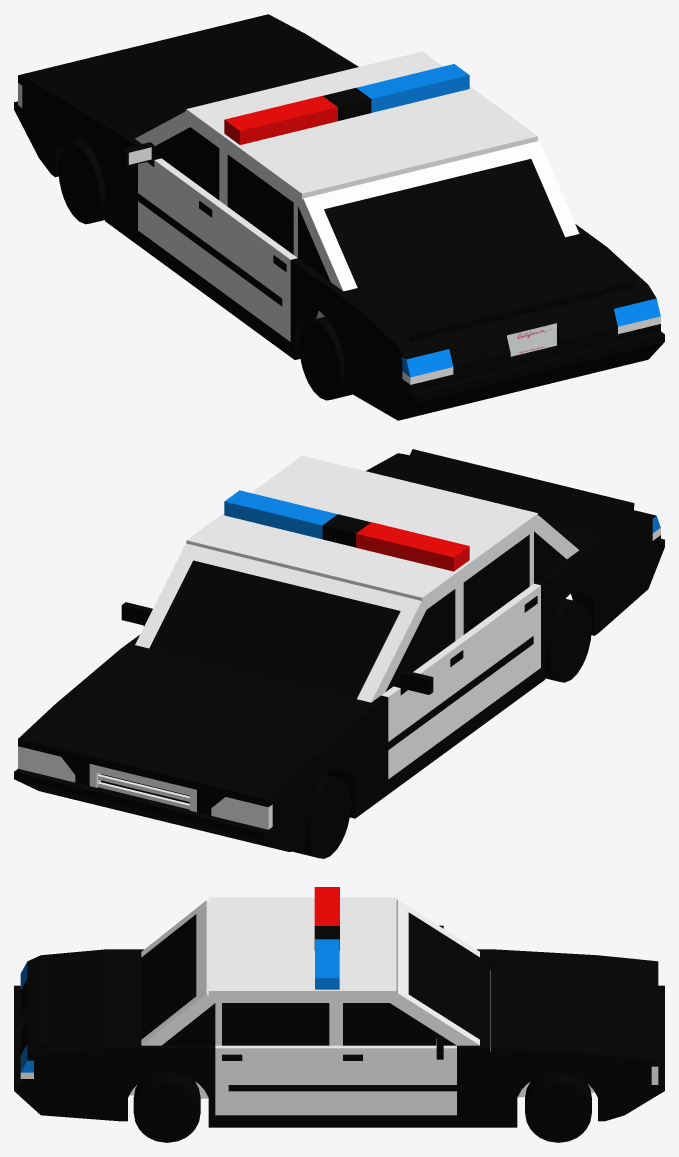
File: police-car.glb
3 views of the same model, one above another, from view 1: azimuth 30°, elevation 25°; view 2: azimuth 150°, elevation 25°; view 3: azimuth 270°, elevation 25° (orthographic). The views are drawn at different scales.
Parts seen in each view (by area): view 1: Object_9, Object_6, Object_7, Object_10, Object_2, Object_8, Object_4, Object_3, Object_11; view 2: Object_9, Object_6, Object_7, Object_2, Object_8, Object_10, Object_11, Object_4; view 3: Object_9, Object_6, Object_7, Object_8, Object_10, Object_2, Object_4.
Boxes of the visible parts, x1=… form: Object_9: x1=14, y1=14, x2=664, y2=420; Object_6: x1=128, y1=51, x2=579, y2=341; Object_7: x1=154, y1=127, x2=564, y2=287; Object_10: x1=356, y1=64, x2=660, y2=377; Object_2: x1=224, y1=96, x2=337, y2=144; Object_8: x1=105, y1=199, x2=300, y2=359; Object_4: x1=121, y1=88, x2=371, y2=166; Object_3: x1=507, y1=323, x2=556, y2=356; Object_11: x1=18, y1=83, x2=660, y2=384; Object_9: x1=14, y1=449, x2=664, y2=858; Object_6: x1=89, y1=455, x2=579, y2=812; Object_7: x1=149, y1=531, x2=566, y2=698; Object_2: x1=356, y1=522, x2=469, y2=571; Object_8: x1=350, y1=657, x2=545, y2=818; Object_10: x1=224, y1=490, x2=660, y2=539; Object_11: x1=18, y1=528, x2=660, y2=829; Object_4: x1=121, y1=514, x2=433, y2=695; Object_9: x1=14, y1=949, x2=664, y2=1142; Object_6: x1=129, y1=897, x2=594, y2=1115; Object_7: x1=141, y1=912, x2=479, y2=1045; Object_8: x1=208, y1=1109, x2=517, y2=1127; Object_10: x1=20, y1=939, x2=339, y2=1072; Object_2: x1=314, y1=887, x2=339, y2=925; Object_4: x1=314, y1=925, x2=443, y2=1059.
Bounding box in the file's own units: 2.11 × 1.3 × 4.77.
Materials: 10 (1 with a texture image).
